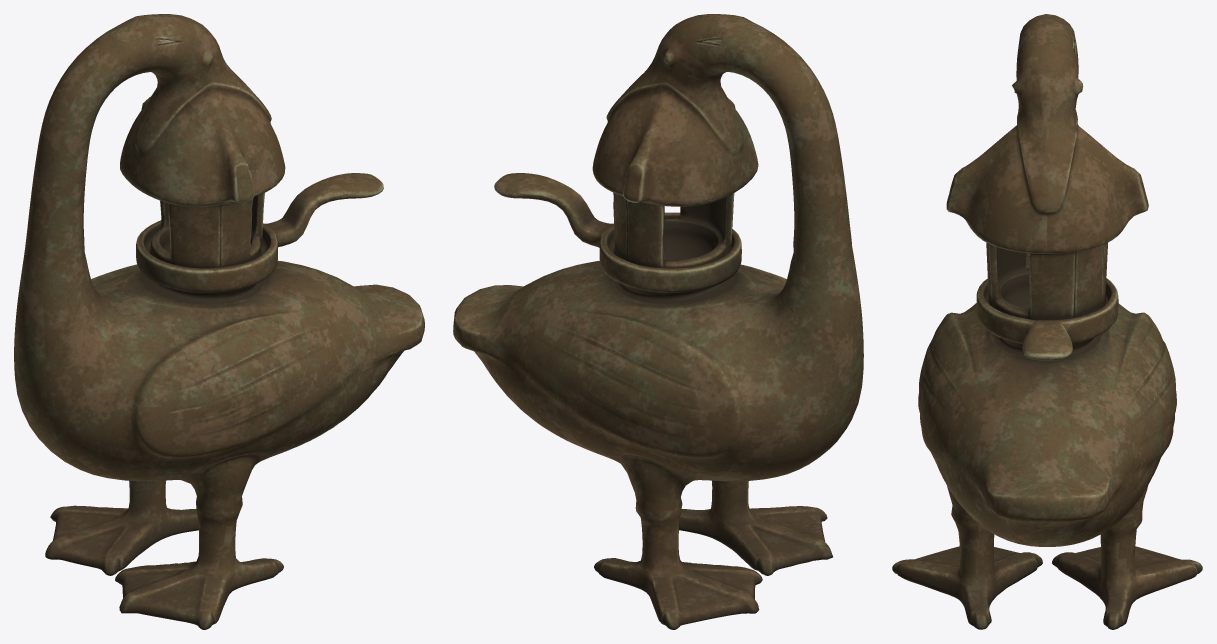
File: 11-han-goose-lamp.glb
The picture shows the model from 3 angles, left to right: view 1: azimuth 30°, elevation 25°; view 2: azimuth 150°, elevation 25°; view 3: azimuth 270°, elevation 25°; orthographic projection.
Parts seen in each view (by area): view 1: node_0_Retopo; view 2: node_0_Retopo; view 3: node_0_Retopo.
Part boxes in pixels (<box>): node_0_Retopo: <box>14,14,424,629</box>; node_0_Retopo: <box>453,14,863,629</box>; node_0_Retopo: <box>892,14,1202,629</box>.
Bounding box in the file's own units: 29.94 × 40.34 × 20.38.
1 material, 1 textured.
